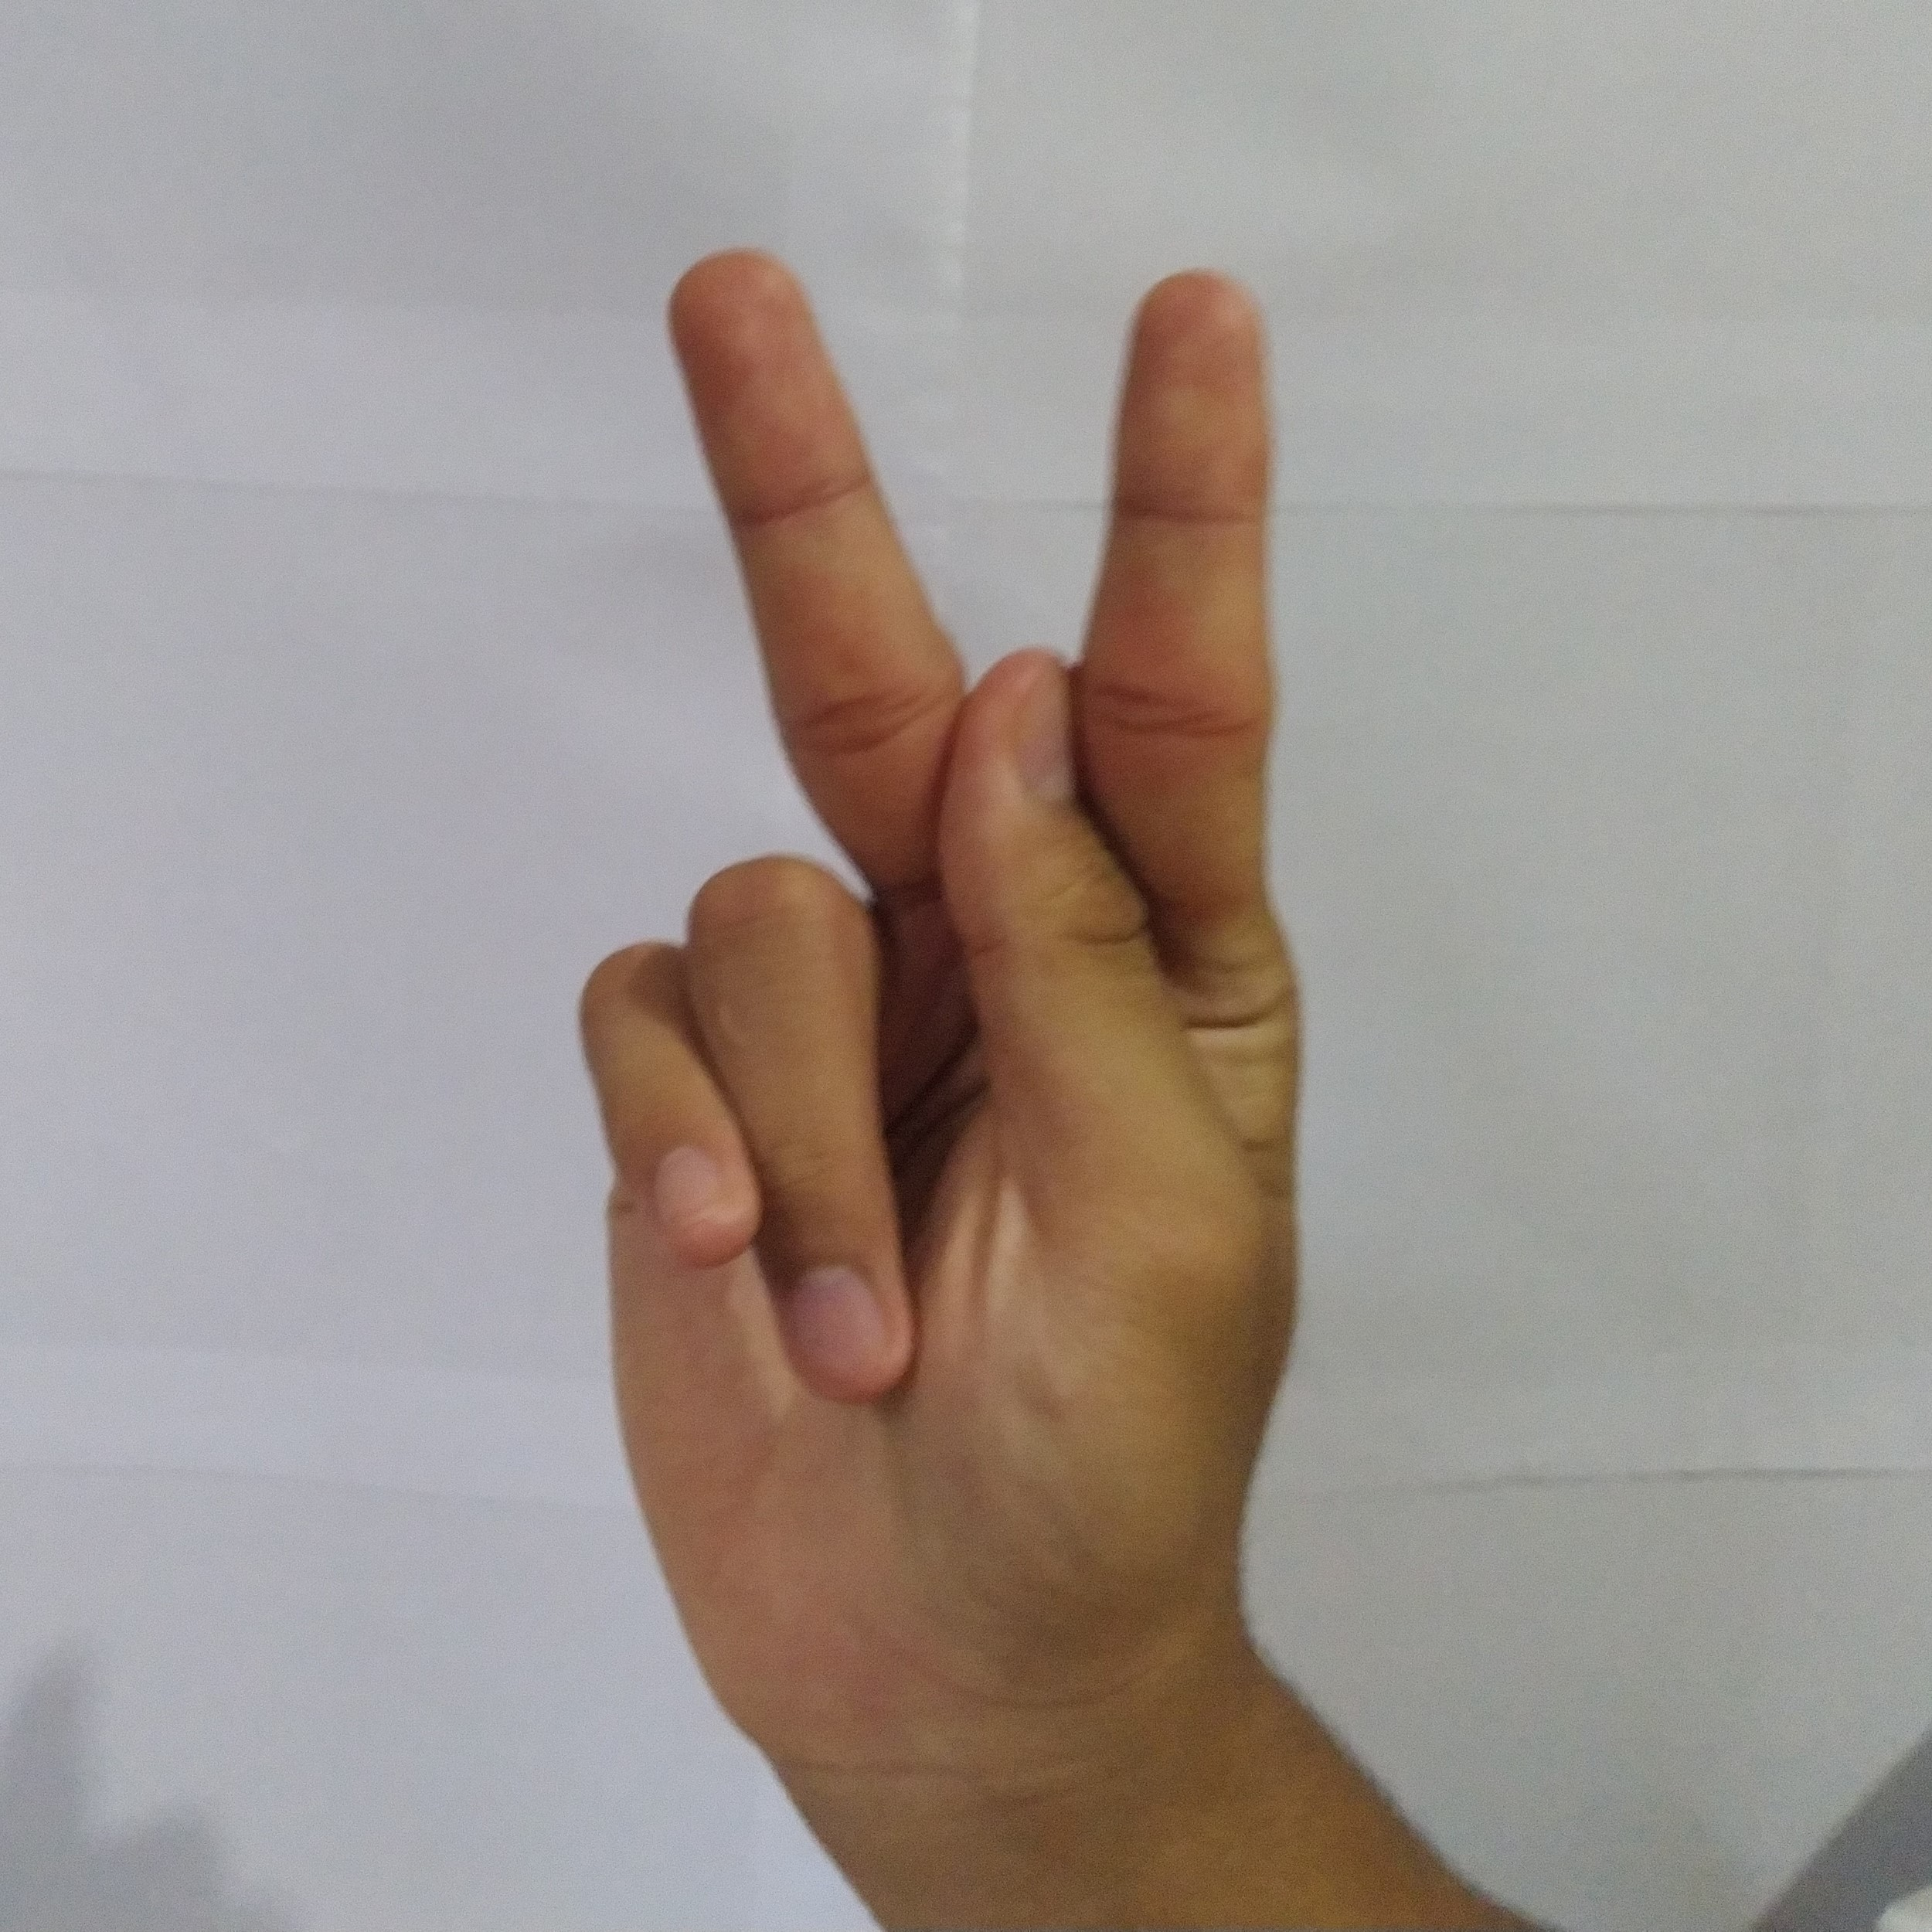K: (554, 207, 1329, 1695)
